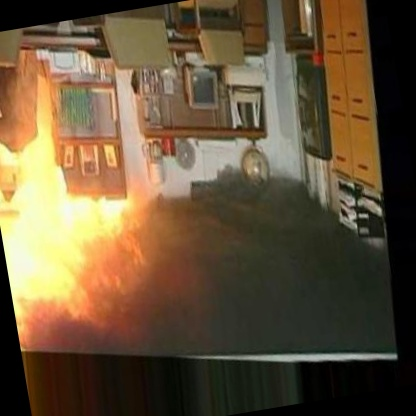fire: (0, 95, 179, 366)
